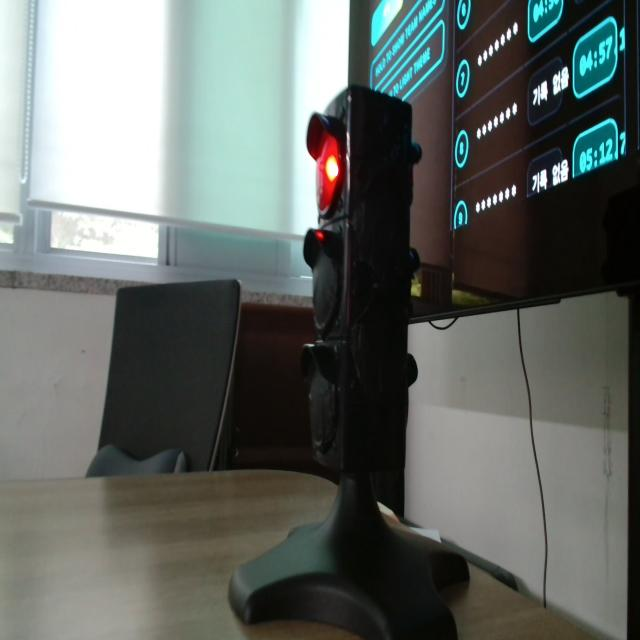red_light: (317, 132, 340, 214), (325, 156, 339, 181), (316, 230, 324, 241)
